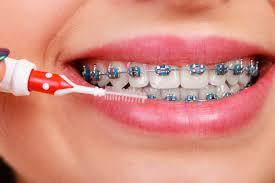Braces: (78, 62, 261, 83), (144, 93, 236, 101)
